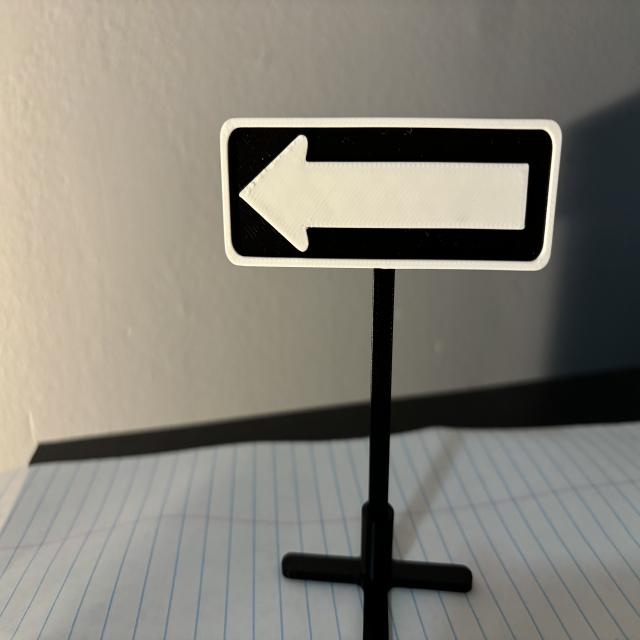sign_oneway_left: (222, 119, 562, 271)
